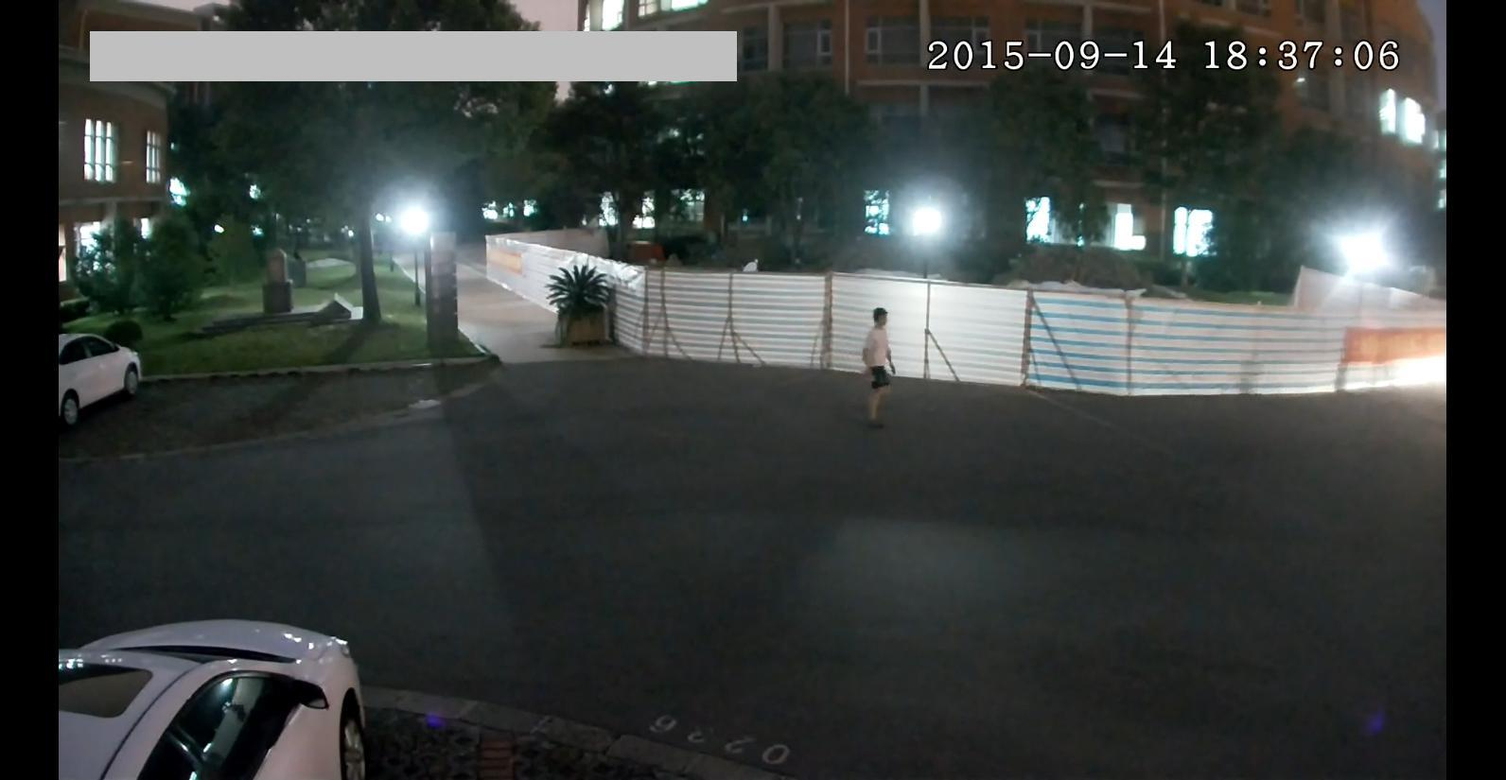person: (851, 300, 902, 440)
